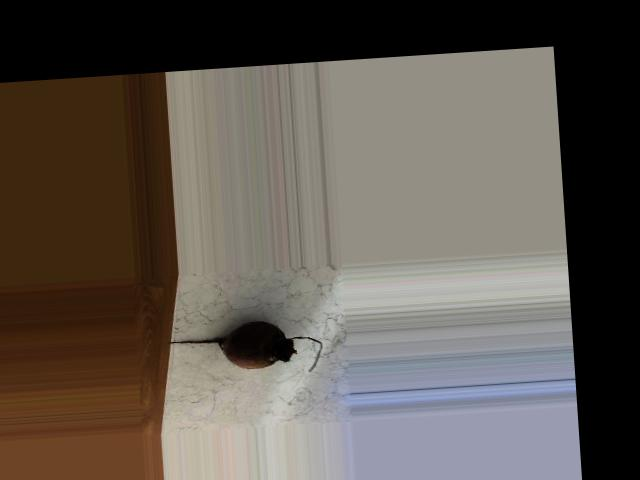beet: (165, 316, 322, 380)
